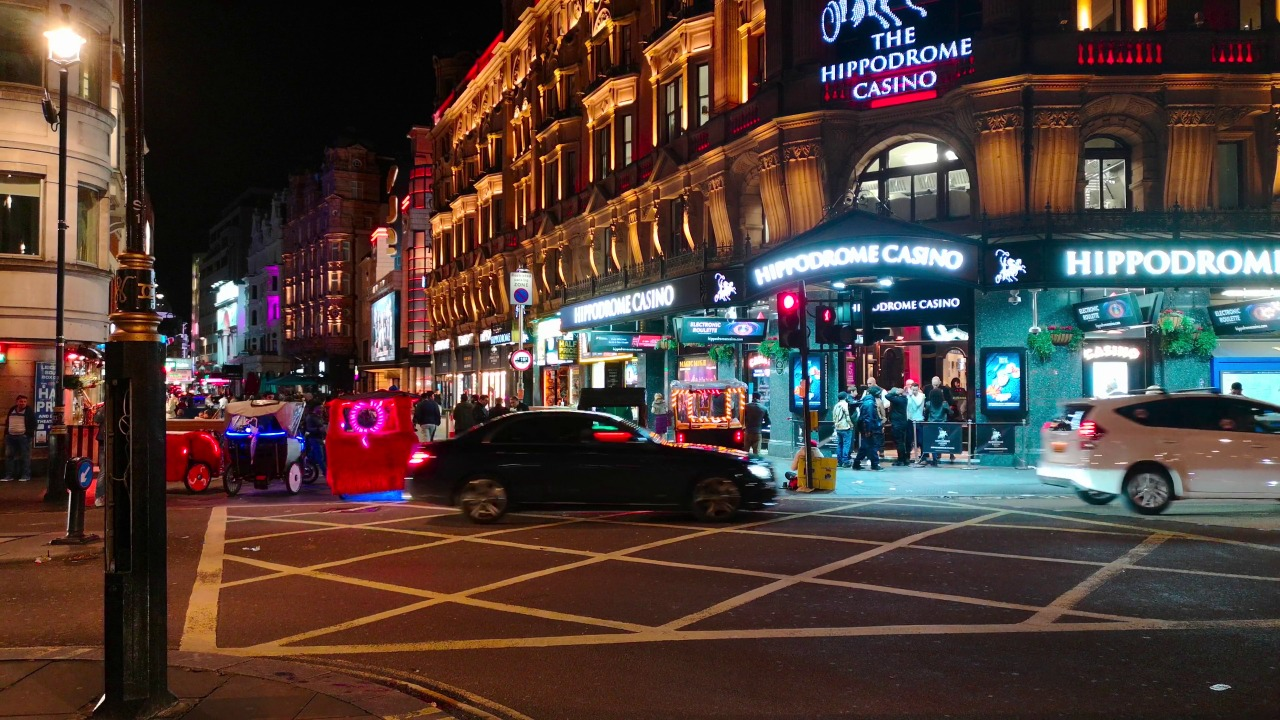car: (415, 410, 777, 533), (1032, 406, 1279, 526), (330, 400, 410, 494), (231, 406, 310, 488), (666, 385, 752, 444), (166, 419, 219, 490), (583, 387, 641, 406)
person: (1, 387, 33, 486), (927, 388, 948, 477), (887, 383, 908, 469), (861, 389, 878, 470), (793, 441, 821, 489), (943, 376, 972, 414), (836, 392, 849, 471), (909, 382, 921, 461), (754, 396, 768, 444), (468, 392, 487, 412), (508, 391, 525, 411), (419, 386, 435, 407), (652, 394, 662, 427), (1225, 382, 1249, 392), (493, 394, 504, 411), (929, 372, 940, 384), (851, 388, 858, 401)
